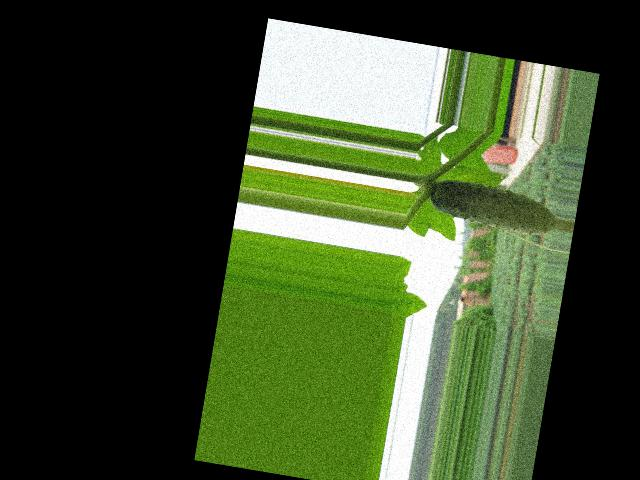cucumber: (427, 177, 560, 238)
